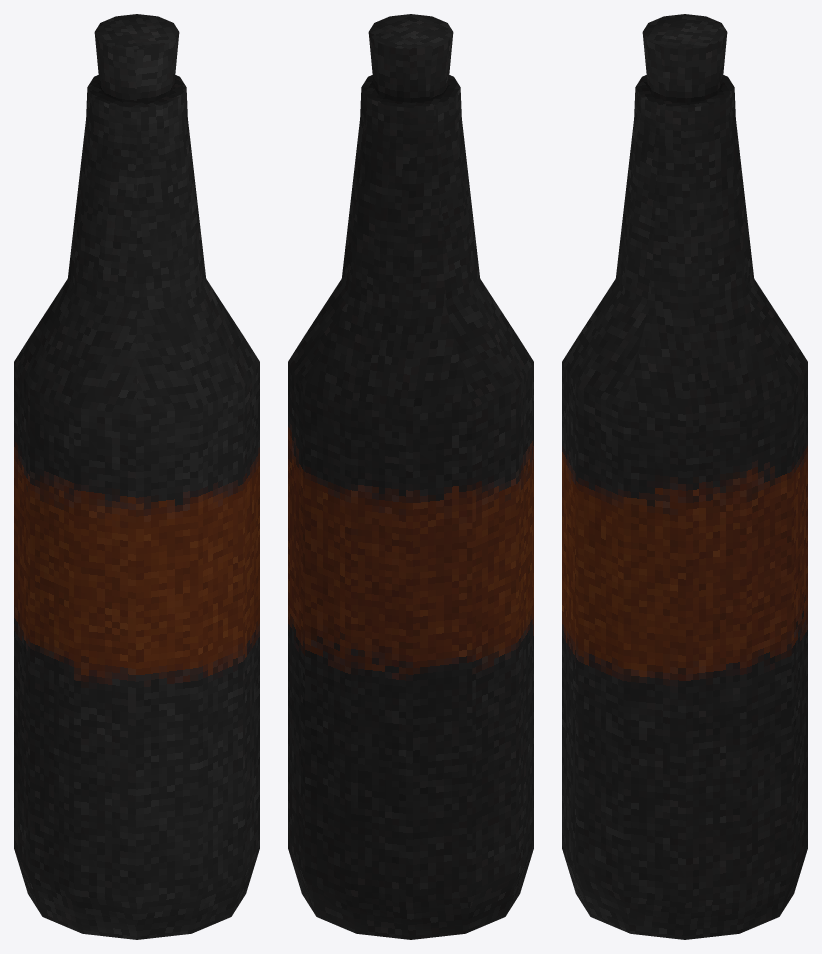
Rendered from Bottle.gltf.
3 views of the same model, side by side, from view 1: azimuth 30°, elevation 25°; view 2: azimuth 150°, elevation 25°; view 3: azimuth 270°, elevation 25° (orthographic).
Parts seen in each view (by area): view 1: Bottle; view 2: Bottle; view 3: Bottle.
Part boxes in pixels (bbox=[...]): Bottle: bbox=[14, 14, 259, 939]; Bottle: bbox=[288, 14, 533, 939]; Bottle: bbox=[562, 14, 807, 939].
Size of the model in its own units: 0.5227 by 2.02 by 0.5227.
Materials: 1 (1 with a texture image).
